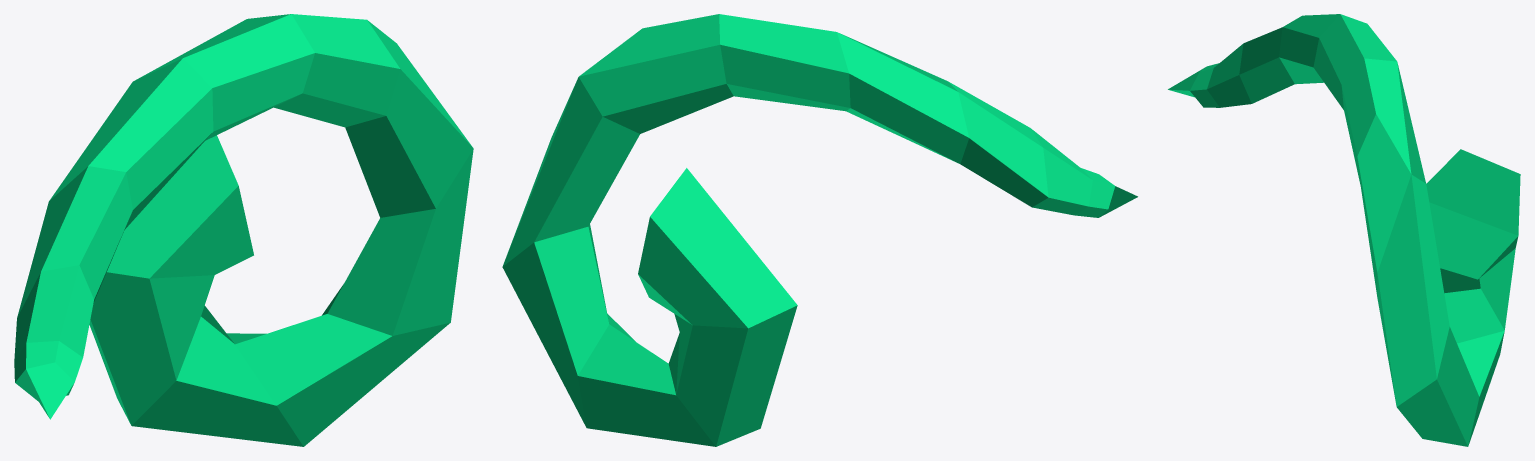
3 renders of one model, left to right at view 1: azimuth 30°, elevation 25°; view 2: azimuth 150°, elevation 25°; view 3: azimuth 270°, elevation 25°, orthographic. The views are drawn at different scales.
Visible parts, largest first — view 1: Root_07; view 2: Root_07; view 3: Root_07.
Part boxes in pixels (box(x1,y1,x2,y2)): Root_07: box(14, 14, 473, 446); Root_07: box(502, 14, 1137, 446); Root_07: box(1168, 14, 1520, 446).
Bounding box in the file's own units: 229 × 179 × 158.
